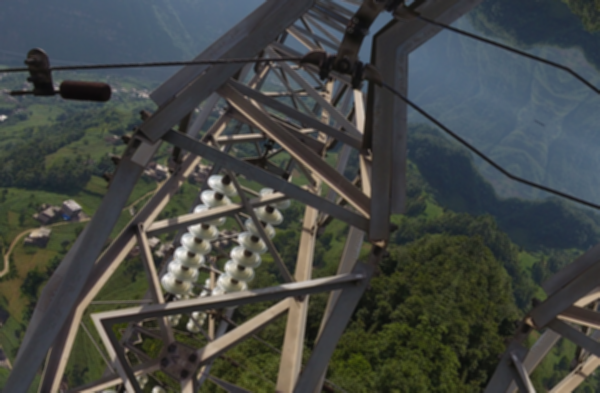damper_defect: (5, 45, 113, 106)
